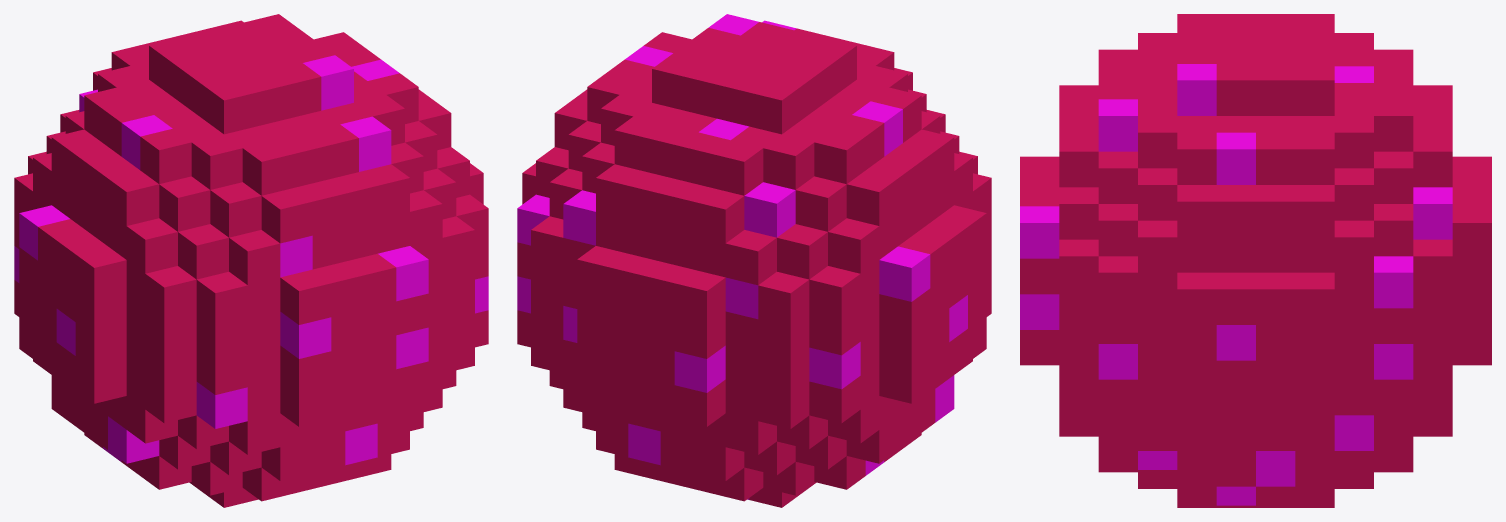
Rendered from planetas-12-rosa.obj.
3 renders of one model, left to right at view 1: azimuth 30°, elevation 25°; view 2: azimuth 150°, elevation 25°; view 3: azimuth 270°, elevation 25°, orthographic. The views are drawn at different scales.
Size of the model in its own units: 1.2 by 1.2 by 1.2.
Materials: 1 (1 with a texture image).
